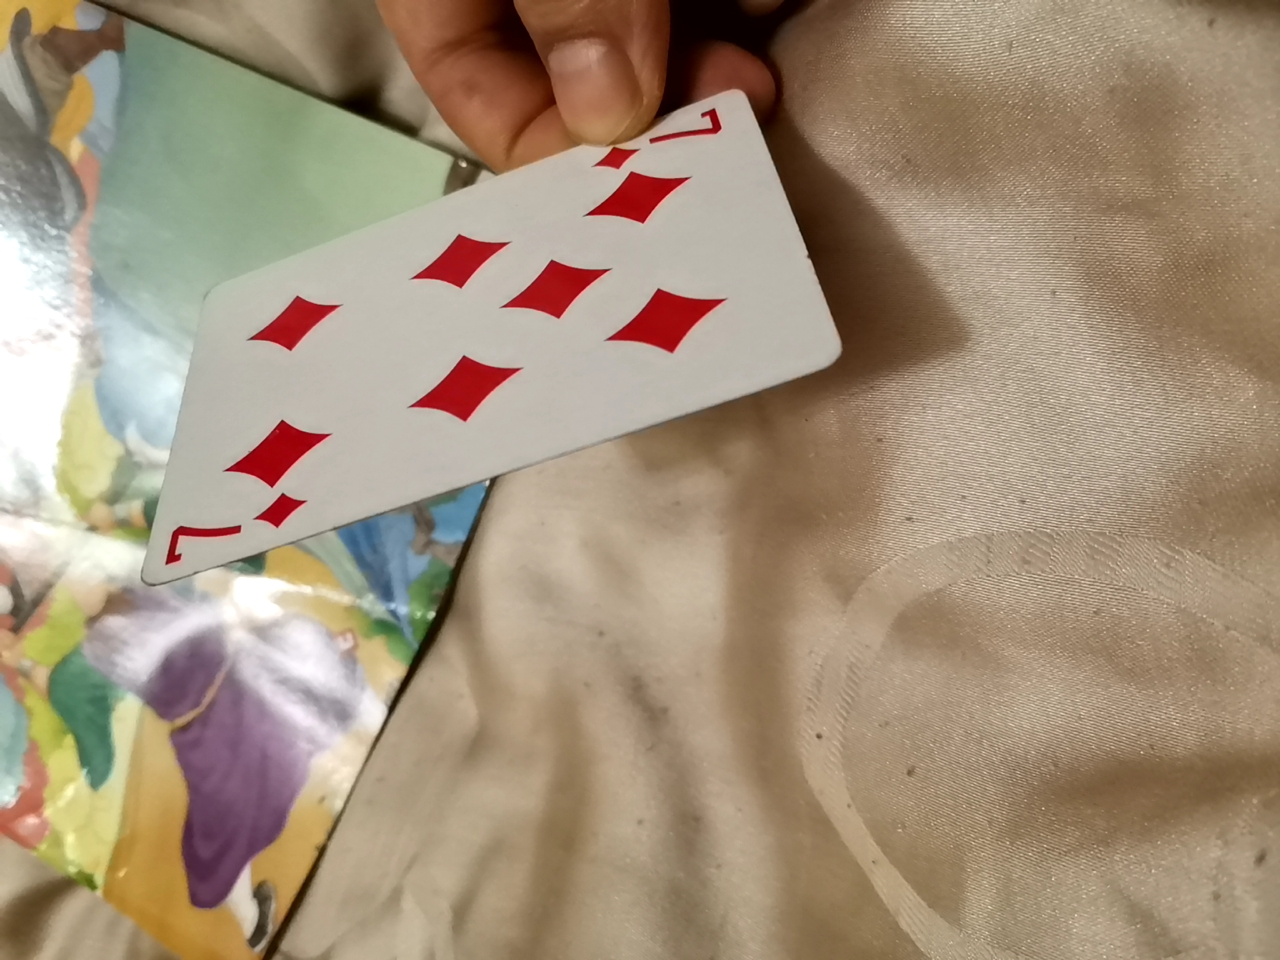fk 7: (175, 86, 835, 535)
